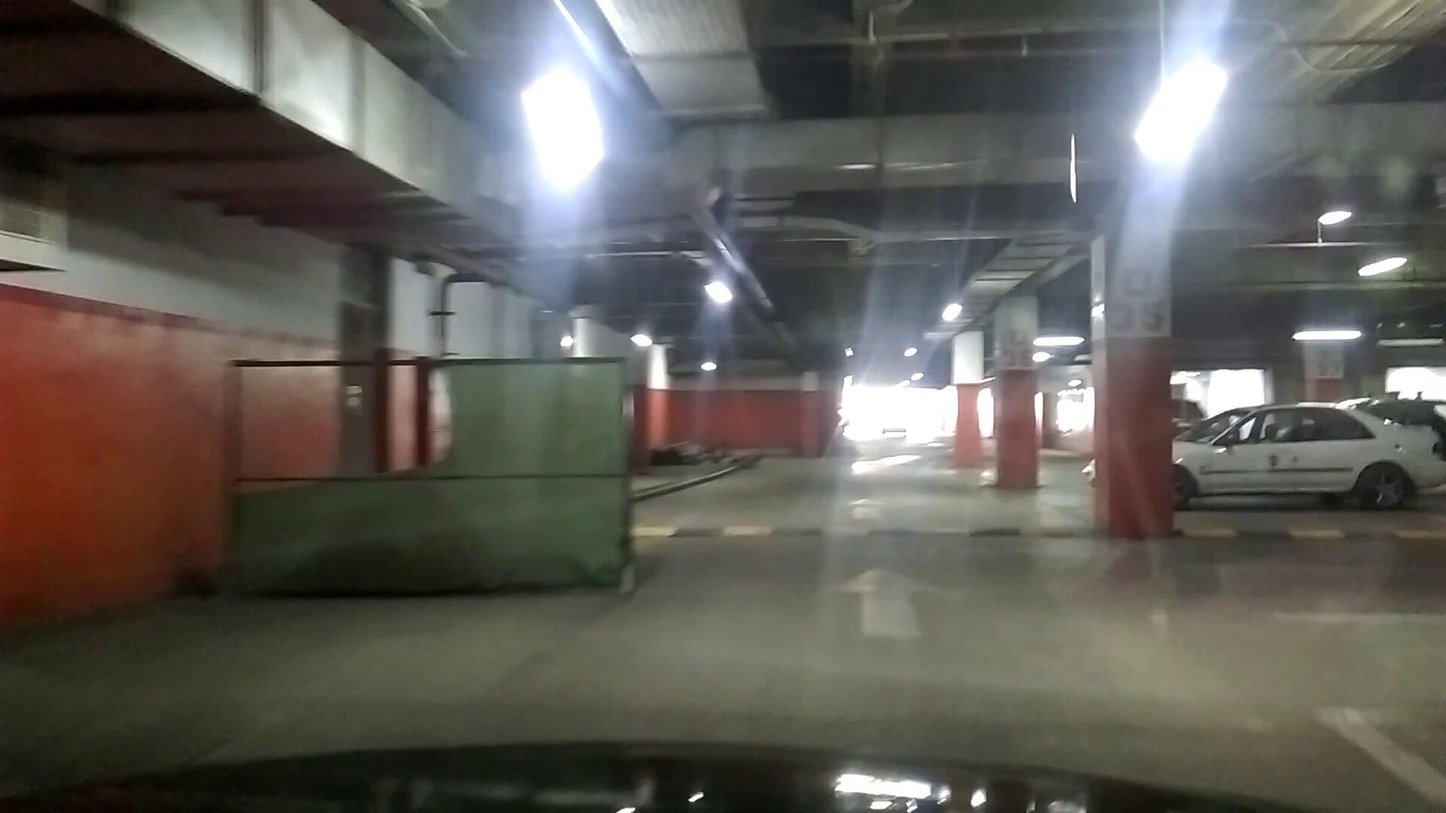Bump: (638, 518, 1124, 553)
